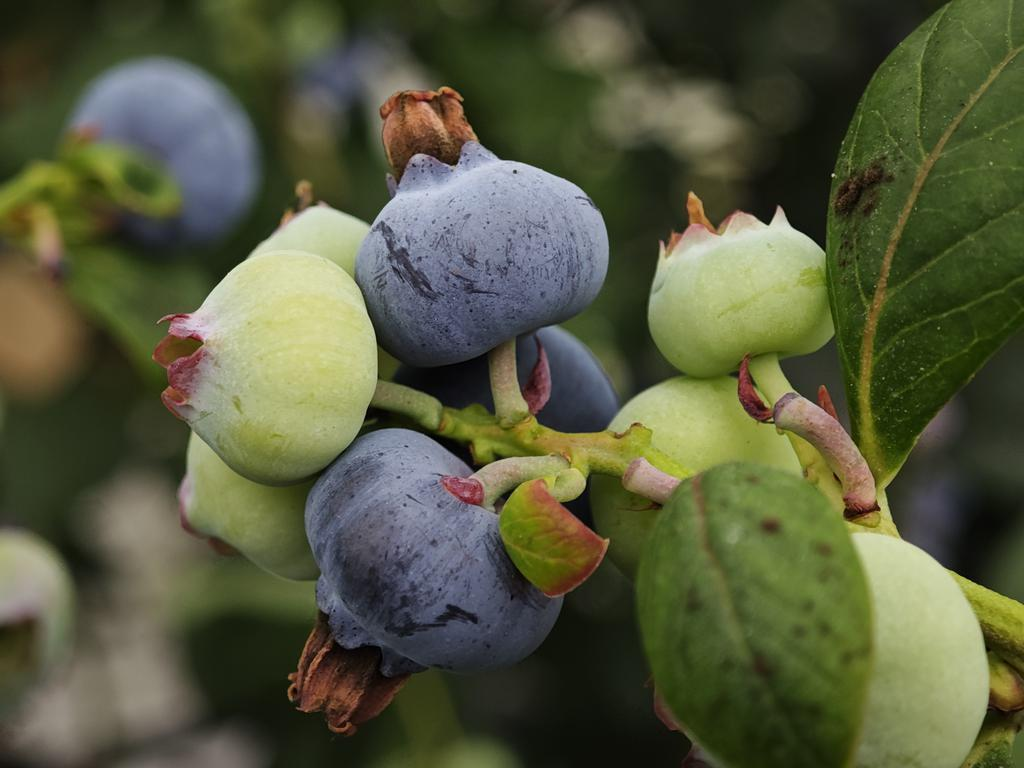RipeBlueBerry: (303, 423, 568, 706), (354, 119, 615, 372)
UnripeBlueBerry: (155, 249, 382, 489)
